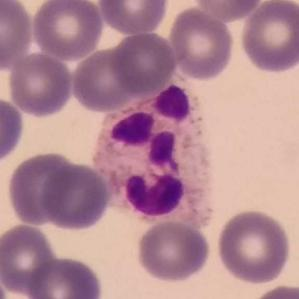Neutrophil: (91, 69, 216, 229)
RBC: (214, 207, 293, 286), (4, 150, 80, 228), (166, 4, 236, 82), (38, 160, 112, 232), (69, 44, 144, 114), (135, 218, 213, 284), (6, 50, 75, 118), (238, 0, 299, 75), (30, 0, 105, 61), (110, 29, 178, 96), (0, 221, 58, 296), (27, 254, 105, 299), (97, 0, 171, 36), (0, 0, 35, 71), (0, 95, 27, 167), (190, 0, 264, 21), (245, 282, 299, 299)
